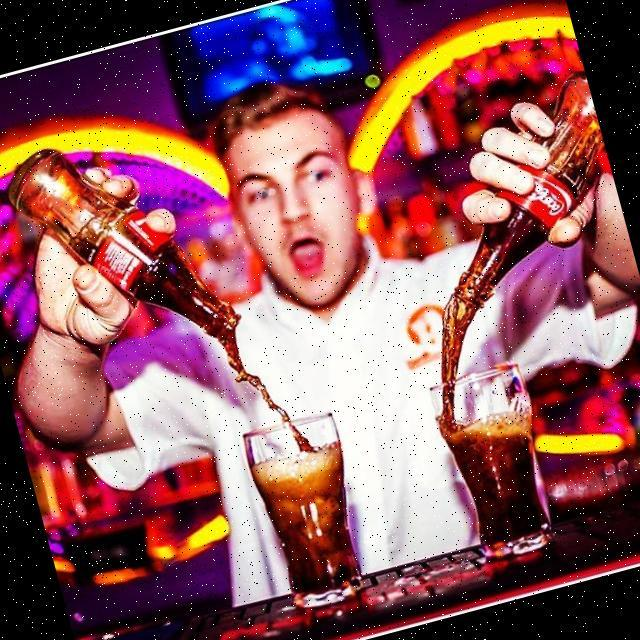coca-cola: (0, 106, 247, 385), (407, 66, 637, 313)
